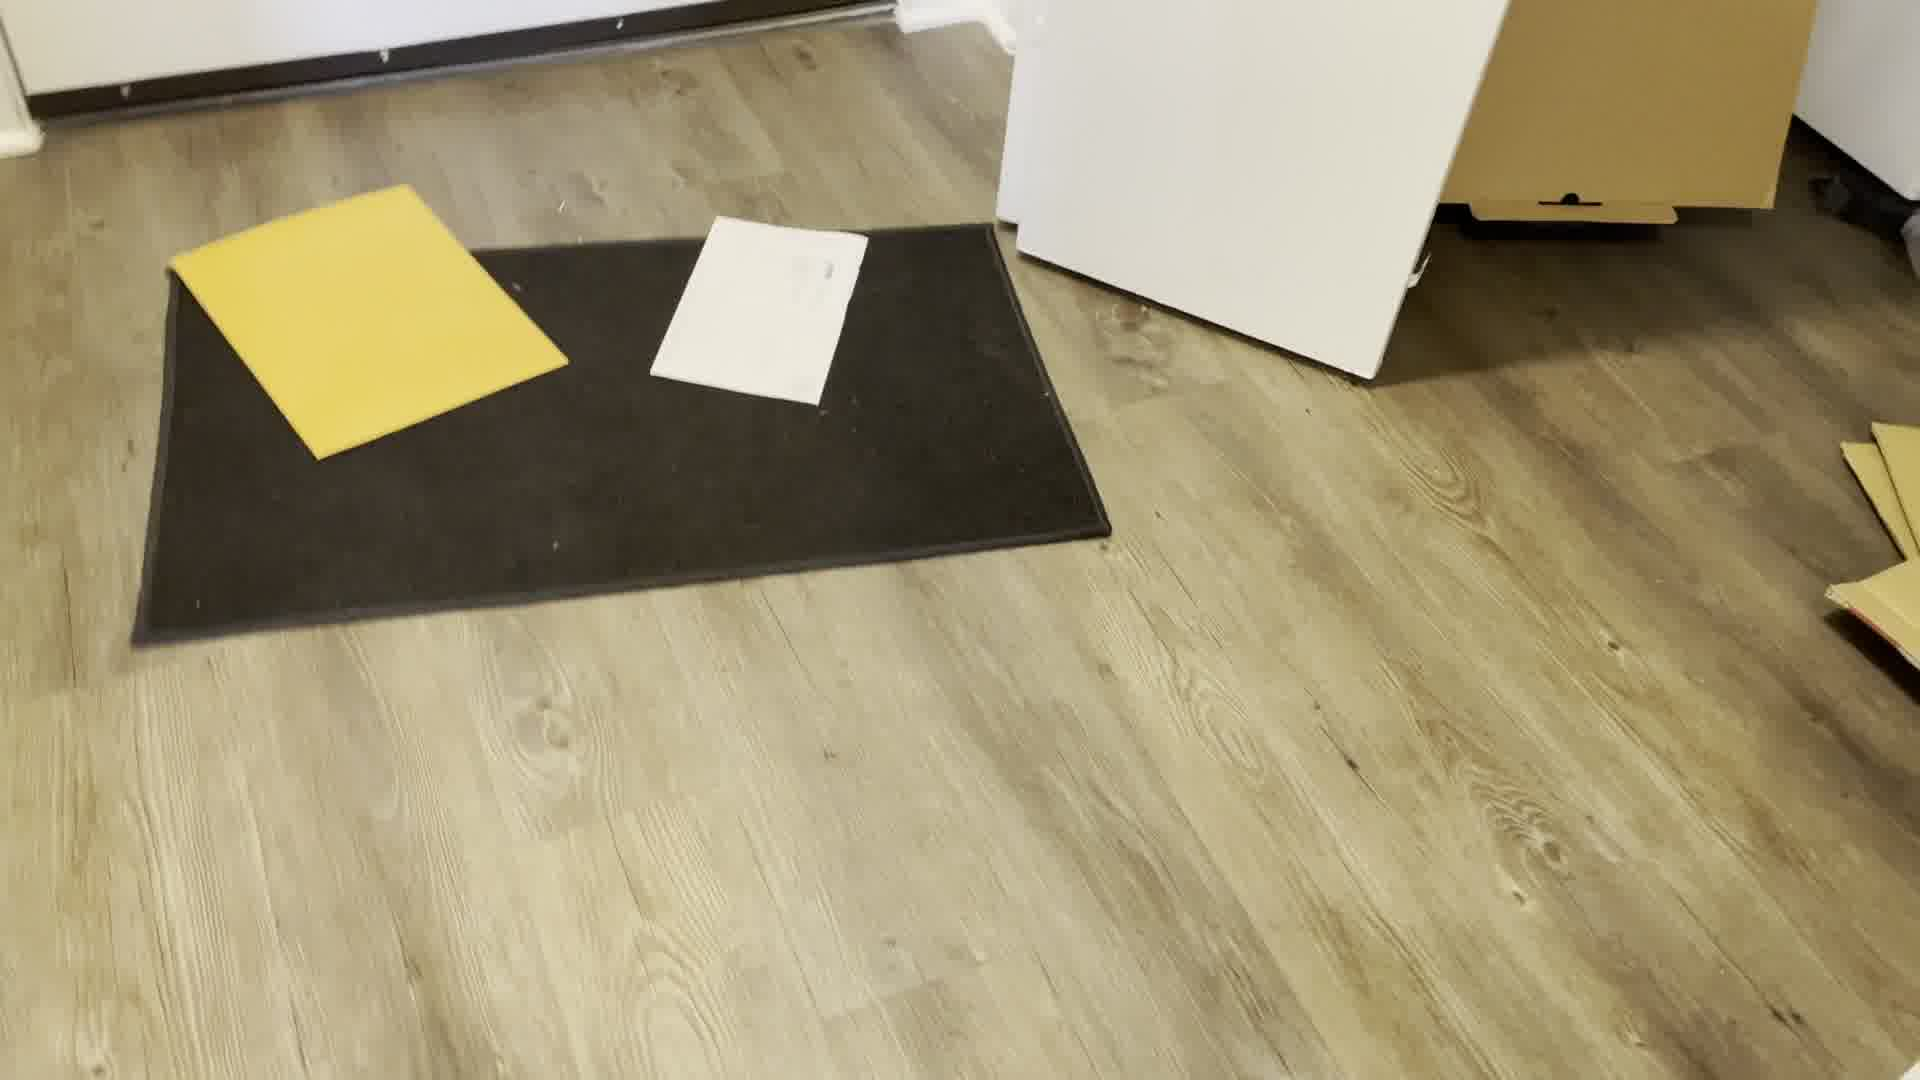envelope: (156, 171, 576, 476), (647, 211, 872, 409)
